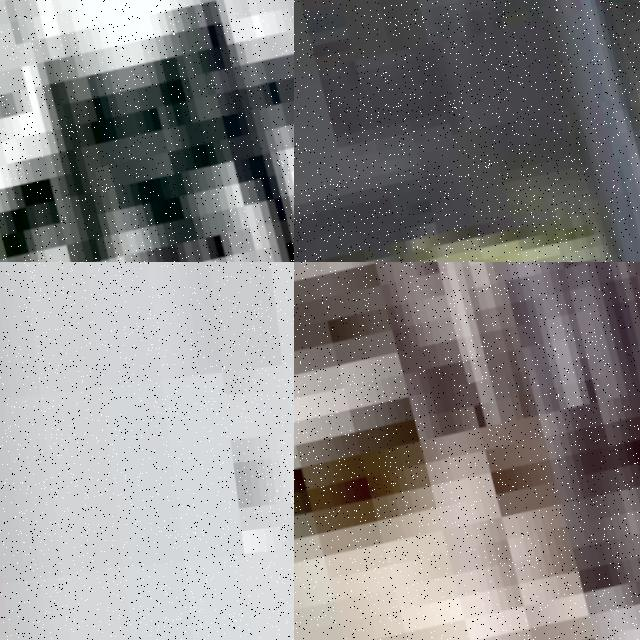drone: (294, 262, 640, 640), (294, 0, 640, 262), (0, 0, 294, 262)
